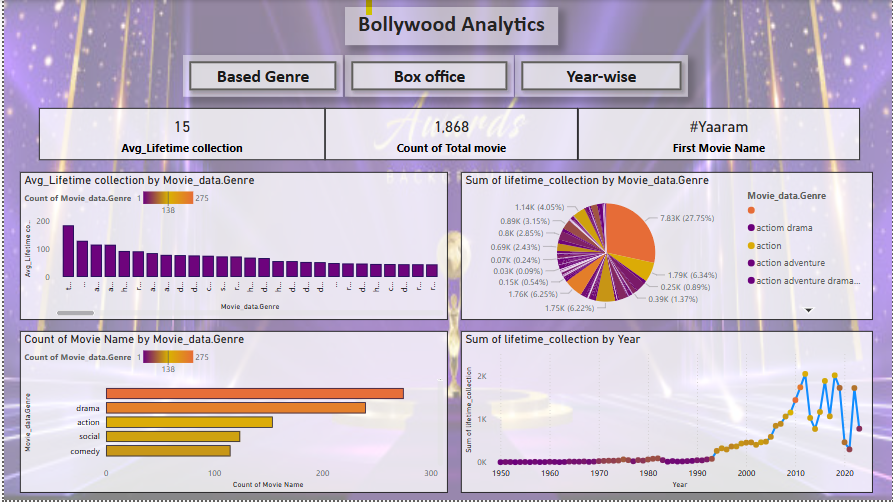

The dashboard page shown, as its layout file describes it:
{"tool":"powerbi","page":{"name":"Page 1","canvas":[1280,720],"ordinal":0},"visuals":[{"type":"barChart","fields":{"Category":["Merge2.Movie_data.Genre"],"Y":["CountNonNull(Merge2.Movie Name)"]},"box":[45.4,126,559.4,268.8],"z":0},{"type":"clusteredColumnChart","fields":{"Y":["Merge2.Avg_Lifetime"],"Category":["Merge2.Movie_data.Genre"]},"box":[695.5,126.7,553,267.8],"z":1000},{"type":"lineChart","fields":{"Category":["Merge2.Release Date.Variation.Date Hierarchy.Year","Merge2.Release Date.Variation.Date Hierarchy.Quarter","Merge2.Release Date.Variation.Date Hierarchy.Month","Merge2.Release Date.Variation.Date Hierarchy.Day"],"Y":["Sum(Merge2.lifetime_collection)"]},"box":[365.8,426.2,558.7,269.3],"z":2000},{"type":"actionButton","box":[746.2,21.5,178.5,60],"z":3000},{"type":"actionButton","box":[920,21.5,175.4,60],"z":4000},{"type":"actionButton","box":[1087.7,21.5,176.9,60],"z":5000},{"type":"textbox","box":[21.8,20.2,650.1,62.2],"z":9000}]}

Visuals, with their boxes in screenshot pixels (x1, y1, x2, y2), scaled from the page's 1280x720 canvas onto the 893x502 screenshot:
barChart - Merge2.Movie_data.Genre x CountNonNull(Merge2.Movie Name): detection(32, 88, 422, 275)
clusteredColumnChart - Merge2.Avg_Lifetime x Merge2.Movie_data.Genre: detection(485, 88, 871, 275)
lineChart - Merge2.Release Date.Variation.Date Hierarchy.Year x Merge2.Release Date.Variation.Date Hierarchy.Quarter: detection(255, 297, 645, 485)
actionButton: detection(521, 15, 645, 57)
actionButton: detection(642, 15, 764, 57)
actionButton: detection(759, 15, 882, 57)
textbox: detection(15, 14, 469, 57)
